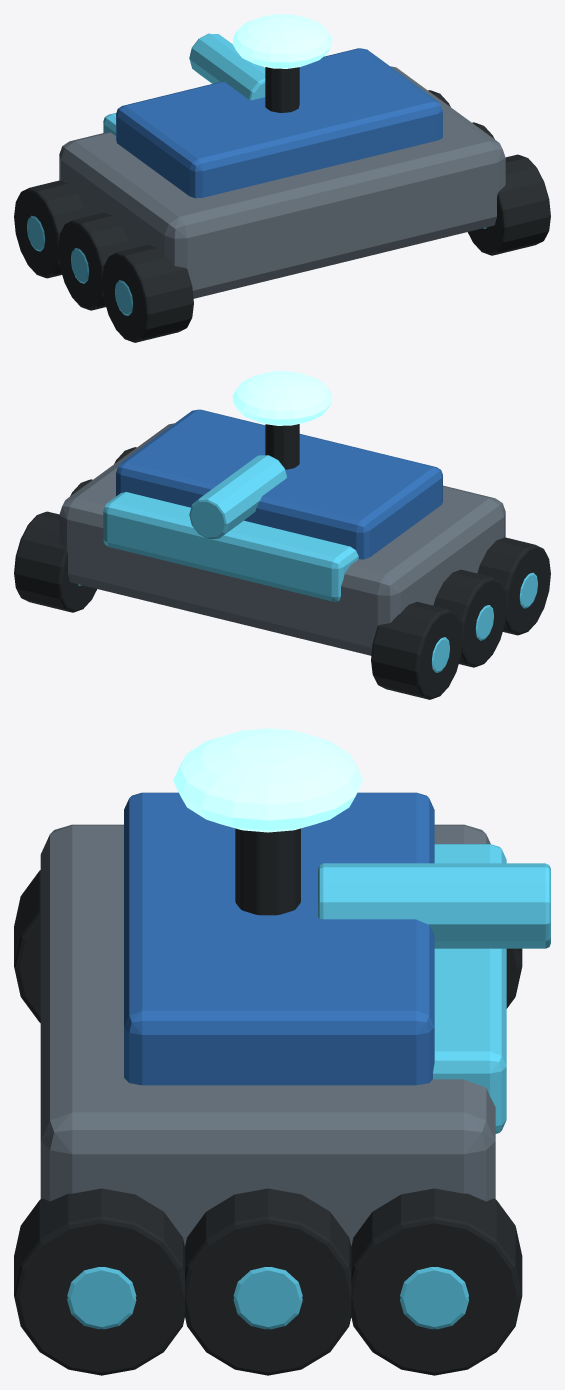
File: SM_Alliance_AL_KestrelScout.fbx
3 views of the same model, one above another, from view 1: azimuth 30°, elevation 25°; view 2: azimuth 150°, elevation 25°; view 3: azimuth 270°, elevation 25° (orthographic). The views are drawn at different scales.
Parts seen in each view (by area): view 1: SM_Alliance_AL_KestrelScout, SM_Alliance_AL_KestrelScout_UpperHull, SM_Alliance_AL_KestrelScout_Wheel_00, SM_Alliance_AL_KestrelScout_Wheel_03, SM_Alliance_AL_KestrelScout_Sensor, SM_Alliance_AL_KestrelScout_Wheel_02, SM_Alliance_AL_KestrelScout_Wheel_01, SM_Alliance_AL_KestrelScout_LightCannon, SM_Alliance_AL_KestrelScout_SensorMast, SM_Alliance_AL_KestrelScout_Hub_02, SM_Alliance_AL_KestrelScout_Hub_01, SM_Alliance_AL_KestrelScout_Hub_00; view 2: SM_Alliance_AL_KestrelScout, SM_Alliance_AL_KestrelScout_UpperHull, SM_Alliance_AL_KestrelScout_Glacis, SM_Alliance_AL_KestrelScout_Wheel_02, SM_Alliance_AL_KestrelScout_Wheel_05, SM_Alliance_AL_KestrelScout_Sensor, SM_Alliance_AL_KestrelScout_LightCannon, SM_Alliance_AL_KestrelScout_Wheel_00, SM_Alliance_AL_KestrelScout_Wheel_01, SM_Alliance_AL_KestrelScout_SensorMast, SM_Alliance_AL_KestrelScout_Hub_00, SM_Alliance_AL_KestrelScout_Hub_01 (+1 smaller); view 3: SM_Alliance_AL_KestrelScout, SM_Alliance_AL_KestrelScout_UpperHull, SM_Alliance_AL_KestrelScout_Wheel_05, SM_Alliance_AL_KestrelScout_Wheel_03, SM_Alliance_AL_KestrelScout_Wheel_04, SM_Alliance_AL_KestrelScout_LightCannon, SM_Alliance_AL_KestrelScout_Sensor, SM_Alliance_AL_KestrelScout_Glacis, SM_Alliance_AL_KestrelScout_SensorMast, SM_Alliance_AL_KestrelScout_Hub_04, SM_Alliance_AL_KestrelScout_Hub_05, SM_Alliance_AL_KestrelScout_Hub_03 (+2 smaller).
Part boxes in pixels (x1=…): SM_Alliance_AL_KestrelScout: x1=59, y1=66, x2=505, y2=298; SM_Alliance_AL_KestrelScout_UpperHull: x1=116, y1=48, x2=442, y2=198; SM_Alliance_AL_KestrelScout_Wheel_00: x1=102, y1=244, x2=193, y2=342; SM_Alliance_AL_KestrelScout_Wheel_03: x1=467, y1=154, x2=550, y2=255; SM_Alliance_AL_KestrelScout_Sensor: x1=232, y1=14, x2=332, y2=68; SM_Alliance_AL_KestrelScout_Wheel_02: x1=14, y1=180, x2=87, y2=278; SM_Alliance_AL_KestrelScout_Wheel_01: x1=58, y1=212, x2=131, y2=310; SM_Alliance_AL_KestrelScout_LightCannon: x1=189, y1=33, x2=265, y2=100; SM_Alliance_AL_KestrelScout_SensorMast: x1=265, y1=67, x2=299, y2=112; SM_Alliance_AL_KestrelScout_Hub_02: x1=27, y1=215, x2=45, y2=251; SM_Alliance_AL_KestrelScout_Hub_01: x1=71, y1=248, x2=89, y2=283; SM_Alliance_AL_KestrelScout_Hub_00: x1=115, y1=280, x2=132, y2=315; SM_Alliance_AL_KestrelScout: x1=59, y1=423, x2=505, y2=655; SM_Alliance_AL_KestrelScout_UpperHull: x1=116, y1=409, x2=442, y2=559; SM_Alliance_AL_KestrelScout_Glacis: x1=103, y1=492, x2=358, y2=601; SM_Alliance_AL_KestrelScout_Wheel_02: x1=371, y1=601, x2=462, y2=699; SM_Alliance_AL_KestrelScout_Wheel_05: x1=14, y1=511, x2=97, y2=612; SM_Alliance_AL_KestrelScout_Sensor: x1=232, y1=371, x2=332, y2=425; SM_Alliance_AL_KestrelScout_LightCannon: x1=189, y1=455, x2=286, y2=539; SM_Alliance_AL_KestrelScout_Wheel_00: x1=477, y1=537, x2=550, y2=635; SM_Alliance_AL_KestrelScout_Wheel_01: x1=433, y1=569, x2=506, y2=667; SM_Alliance_AL_KestrelScout_SensorMast: x1=265, y1=424, x2=299, y2=469; SM_Alliance_AL_KestrelScout_Hub_00: x1=519, y1=572, x2=537, y2=608; SM_Alliance_AL_KestrelScout_Hub_01: x1=475, y1=605, x2=493, y2=640; SM_Alliance_AL_KestrelScout: x1=40, y1=824, x2=495, y2=1245; SM_Alliance_AL_KestrelScout_UpperHull: x1=124, y1=792, x2=434, y2=1085; SM_Alliance_AL_KestrelScout_Wheel_05: x1=351, y1=1188, x2=522, y2=1375; SM_Alliance_AL_KestrelScout_Wheel_03: x1=14, y1=1188, x2=184, y2=1375; SM_Alliance_AL_KestrelScout_Wheel_04: x1=185, y1=1188, x2=351, y2=1375; SM_Alliance_AL_KestrelScout_LightCannon: x1=318, y1=863, x2=550, y2=948; SM_Alliance_AL_KestrelScout_Sensor: x1=173, y1=728, x2=362, y2=832; SM_Alliance_AL_KestrelScout_Glacis: x1=433, y1=844, x2=506, y2=1133; SM_Alliance_AL_KestrelScout_SensorMast: x1=235, y1=828, x2=300, y2=915; SM_Alliance_AL_KestrelScout_Hub_04: x1=233, y1=1267, x2=302, y2=1329; SM_Alliance_AL_KestrelScout_Hub_05: x1=400, y1=1267, x2=468, y2=1329; SM_Alliance_AL_KestrelScout_Hub_03: x1=67, y1=1267, x2=136, y2=1329.
Size of what is drawn, in the model's own units: 336 by 203 by 186.
